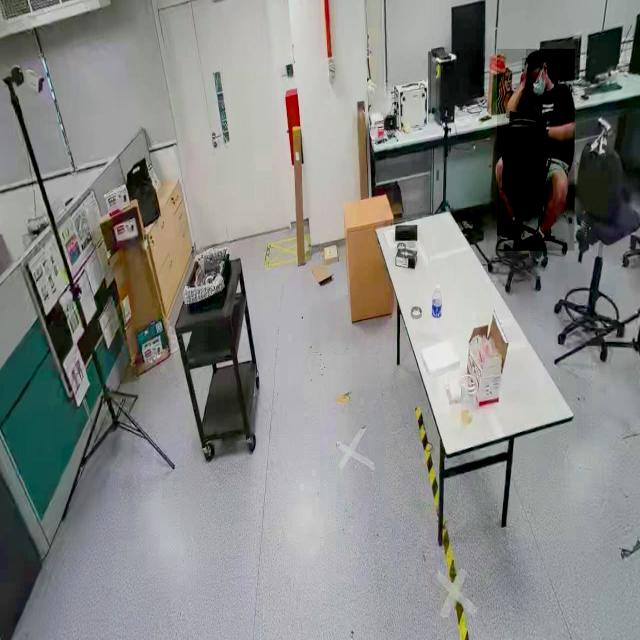face_mask: (529, 67, 549, 101)
hand_noglove: (522, 58, 530, 88)
head_nohelmet: (526, 49, 548, 62)
person: (496, 49, 574, 251)
